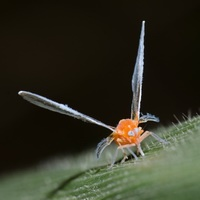insect: (18, 21, 168, 166)
